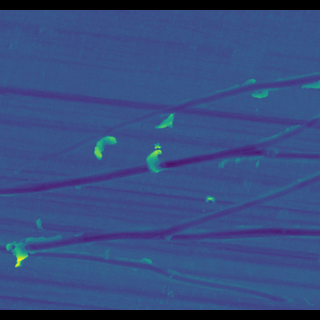Loch: (0, 75, 320, 195), (18, 171, 319, 246), (26, 243, 294, 296), (143, 141, 167, 175), (8, 228, 31, 262), (92, 133, 118, 161), (155, 113, 177, 130)
